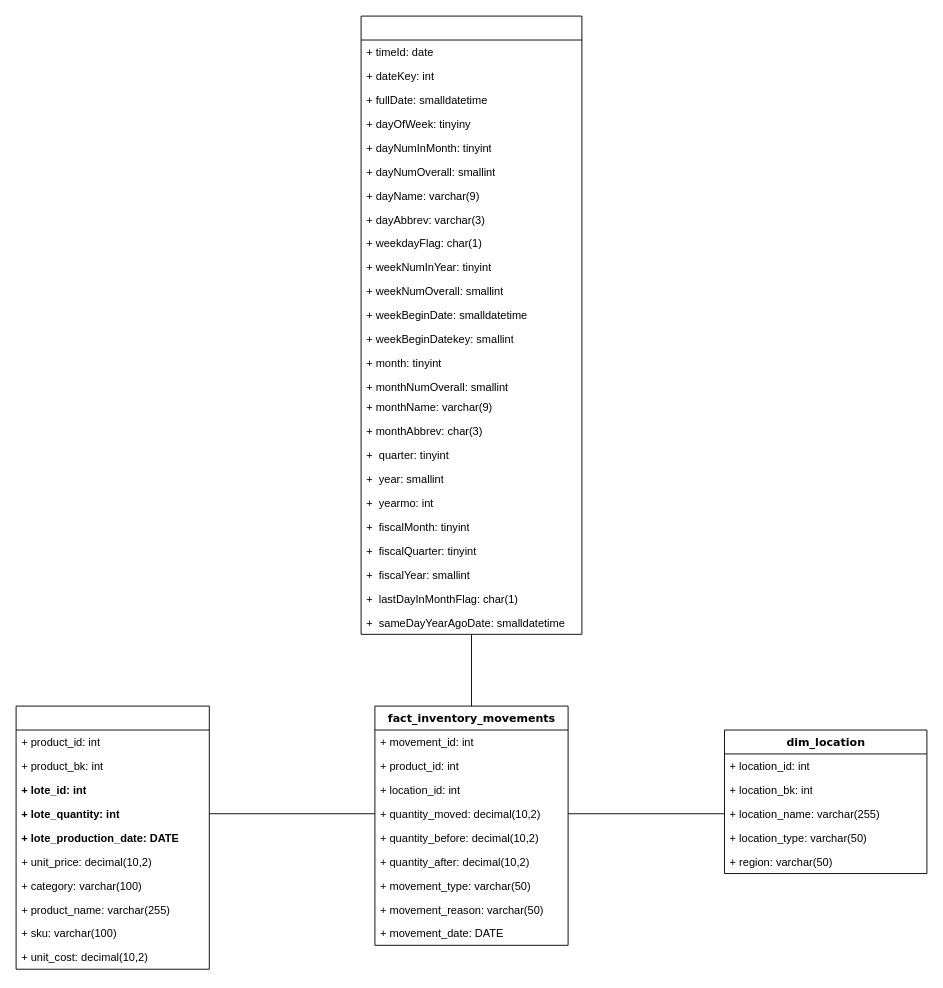
Some shapes in this 943 by 988 pixel diagram are drawn without their labels. Here are the shapes that lost their labels. From the top down, the box of each, then its label:
(360, 15, 582, 634): dim_time
(15, 705, 209, 969): dim_product
